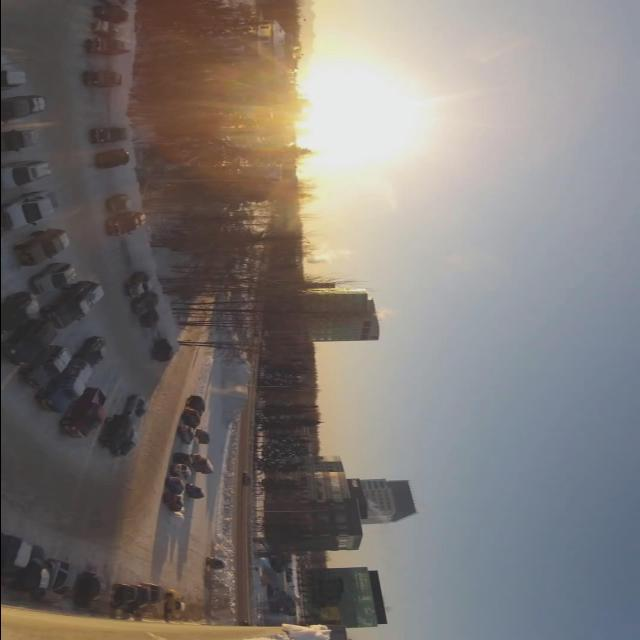Fire: (368, 501, 390, 526)
